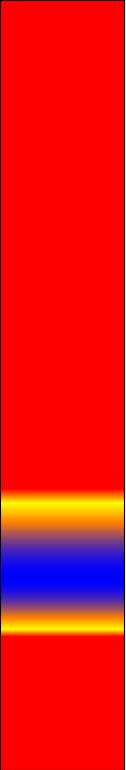Thermal Runaway: (8, 5, 115, 526), (5, 619, 118, 765)
critical: (8, 602, 115, 615), (9, 529, 115, 540)
safe: (8, 545, 115, 600)
